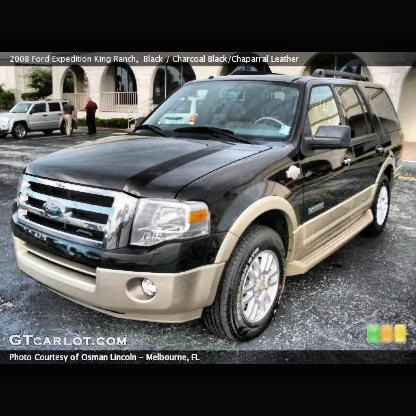Ford Expedition EL SUV 2009: (10, 74, 412, 339)
